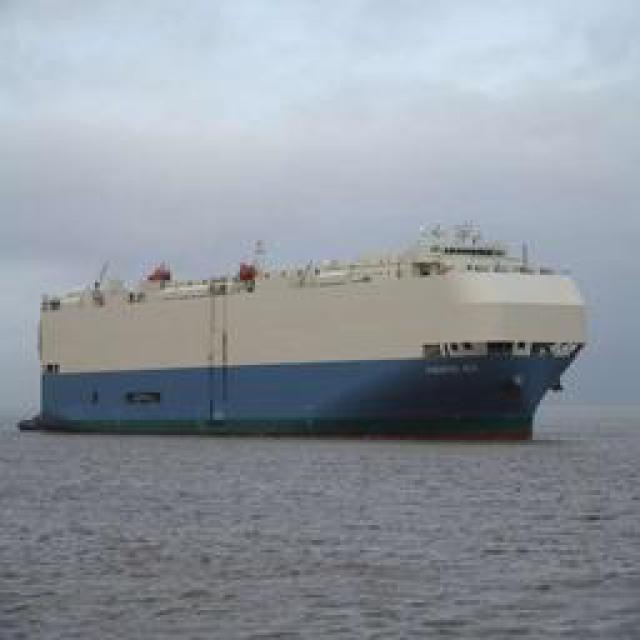Ship: (42, 245, 582, 438)
